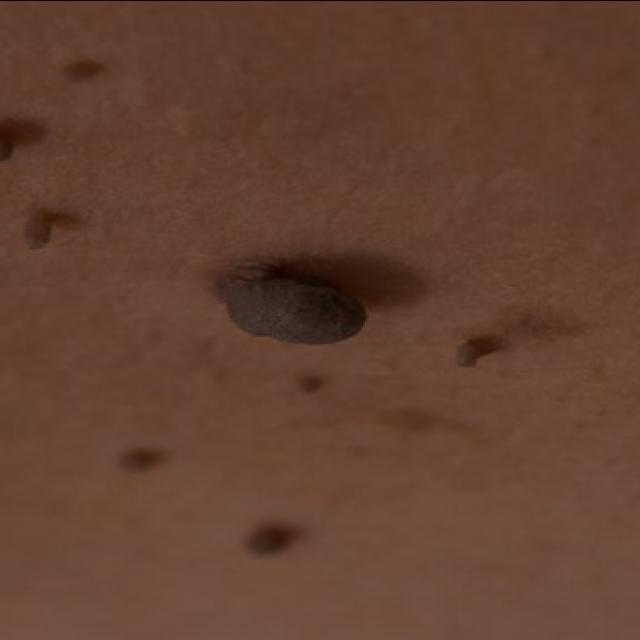wart: (190, 234, 432, 352), (12, 197, 88, 260), (448, 318, 500, 382), (1, 108, 48, 168)
